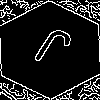J: (25, 25, 76, 78)
